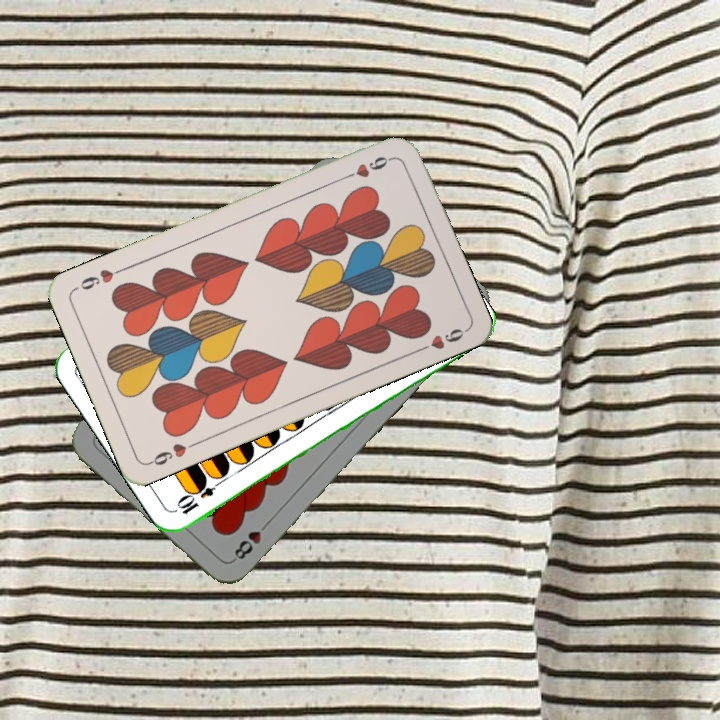E10: (173, 473, 227, 518)
H8: (228, 516, 273, 564)
H9: (144, 437, 201, 468), (339, 152, 396, 182)
